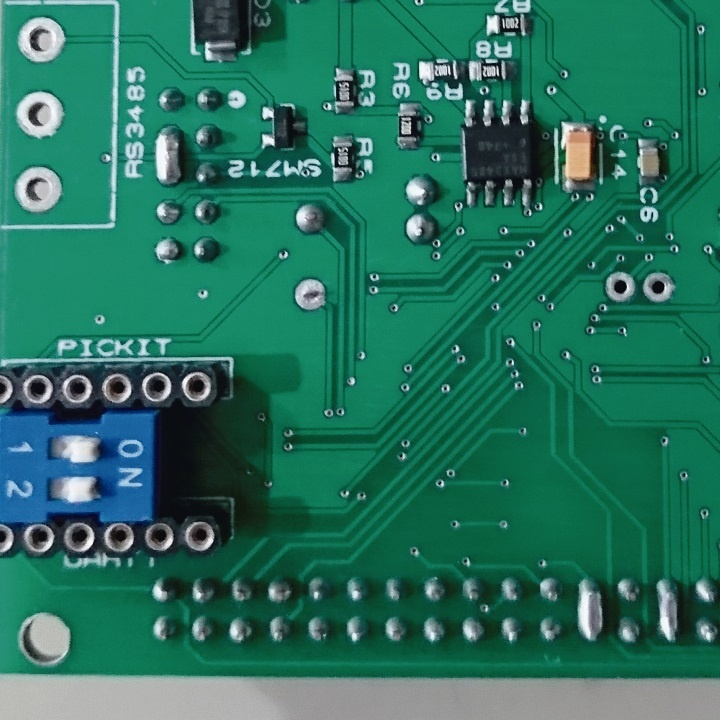F: (10, 164, 67, 220), (15, 14, 70, 69), (14, 89, 67, 144), (290, 273, 330, 315), (639, 268, 676, 309), (602, 268, 636, 306)
P: (573, 569, 607, 646), (651, 575, 684, 649), (151, 121, 185, 190)
